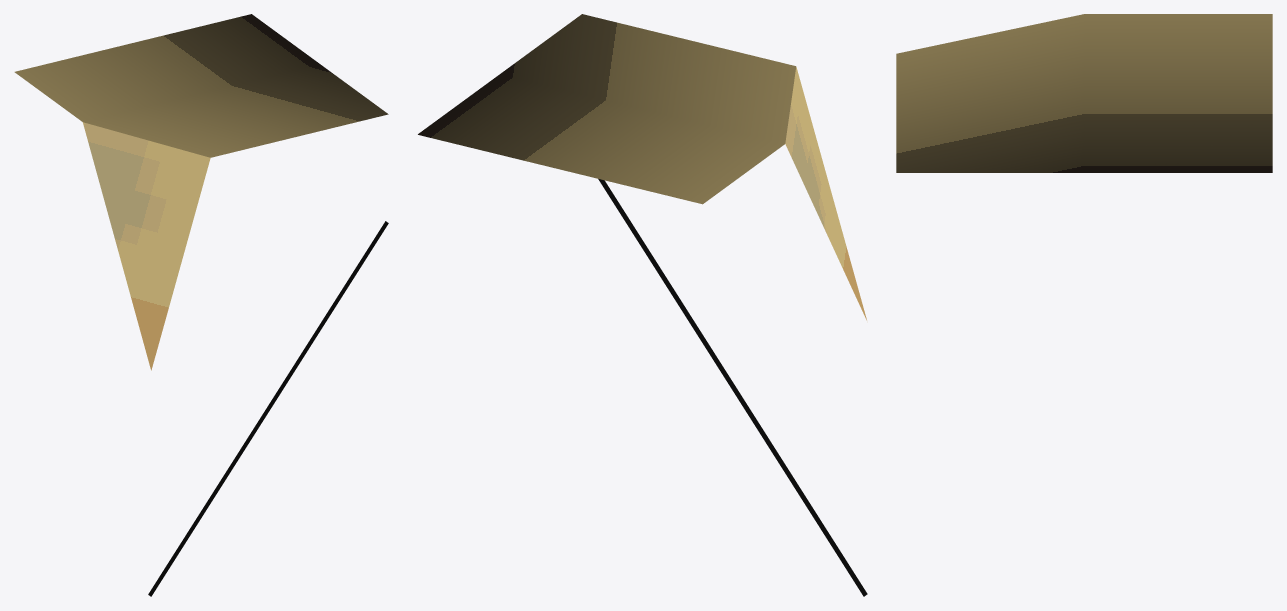
3 views of the same model, side by side, from view 1: azimuth 30°, elevation 25°; view 2: azimuth 150°, elevation 25°; view 3: azimuth 270°, elevation 25° (orthographic). The views are drawn at different scales.
Bounding box in the file's own units: 1 × 1.71 × 1.
2 materials, 2 textured.
